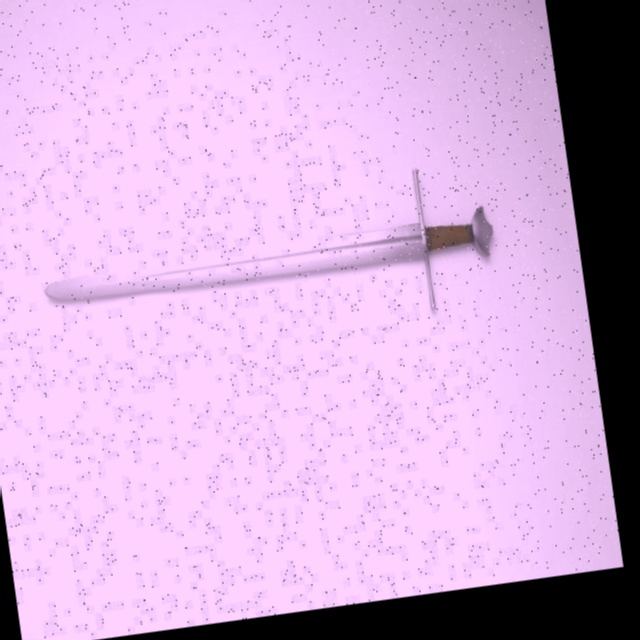Sharp-Object: (34, 195, 513, 331)
